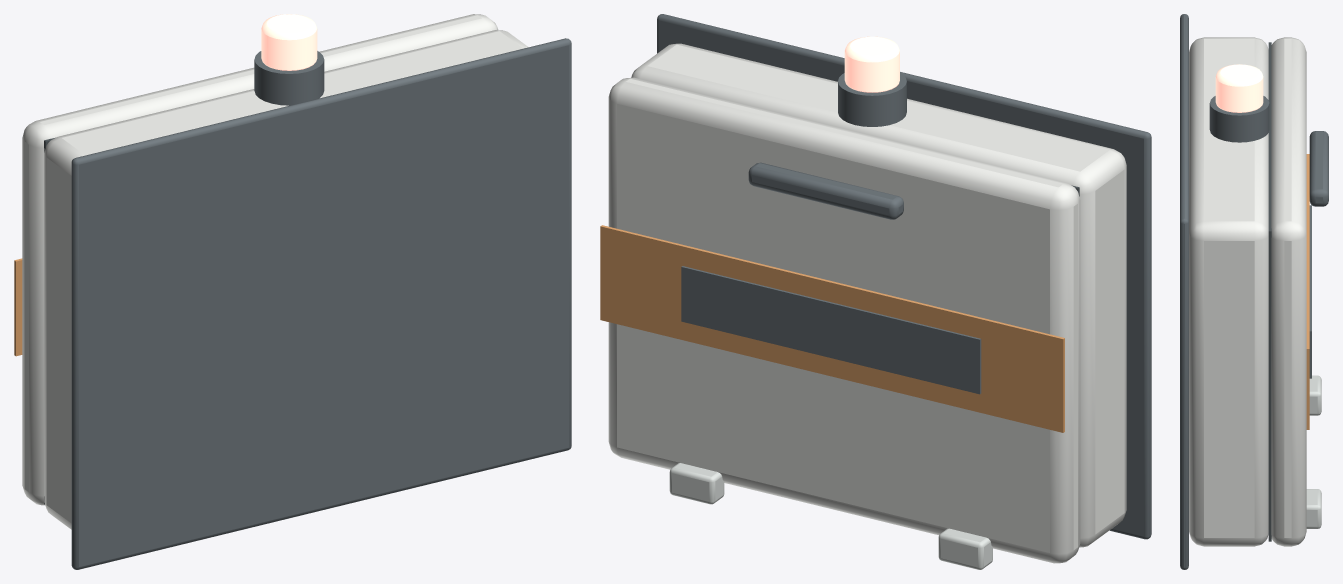
File: hull_patch_kit.glb
3 renders of one model, left to right at view 1: azimuth 30°, elevation 25°; view 2: azimuth 150°, elevation 25°; view 3: azimuth 270°, elevation 25°, orthographic. The views are drawn at different scales.
Visible parts, largest first — view 1: case_backplate_graphite, case_body_white_painted, Patch_Lid_white_painted, beacon_red_light, beacon_base_graphite, Patch_Lid_band_orange; view 2: Patch_Lid_white_painted, case_body_white_painted, Patch_Lid_band_orange, case_backplate_graphite, Patch_Lid_label_graphite, Patch_Lid_handle_graphite, Patch_Lid_latches_satin_steel, beacon_red_light, beacon_base_graphite; view 3: case_body_white_painted, Patch_Lid_white_painted, case_backplate_graphite, beacon_red_light, beacon_base_graphite, Patch_Lid_seam_black_rubber, Patch_Lid_handle_graphite, Patch_Lid_latches_satin_steel, Patch_Lid_band_orange, Patch_Lid_label_graphite.
Boxes of the visible parts, box(x1,y1,x2,y2) form: case_backplate_graphite: box(71, 38, 571, 569); case_body_white_painted: box(44, 30, 528, 529); Patch_Lid_white_painted: box(22, 14, 498, 505); beacon_red_light: box(261, 14, 317, 70); beacon_base_graphite: box(254, 51, 324, 105); Patch_Lid_band_orange: box(14, 258, 22, 356); Patch_Lid_white_painted: box(608, 77, 1080, 563); case_body_white_painted: box(631, 43, 1126, 547); Patch_Lid_band_orange: box(600, 225, 1064, 432); case_backplate_graphite: box(657, 14, 1151, 539); Patch_Lid_label_graphite: box(681, 266, 981, 394); Patch_Lid_handle_graphite: box(748, 162, 903, 219); Patch_Lid_latches_satin_steel: box(669, 463, 992, 569); beacon_red_light: box(844, 36, 899, 92); beacon_base_graphite: box(838, 73, 906, 126); case_body_white_painted: box(1189, 37, 1268, 546); Patch_Lid_white_painted: box(1271, 37, 1306, 546); case_backplate_graphite: box(1180, 14, 1188, 569); beacon_red_light: box(1215, 64, 1263, 112); beacon_base_graphite: box(1209, 96, 1269, 142); Patch_Lid_seam_black_rubber: box(1268, 42, 1271, 541); Patch_Lid_handle_graphite: box(1309, 131, 1328, 206); Patch_Lid_latches_satin_steel: box(1306, 375, 1321, 528); Patch_Lid_band_orange: box(1306, 154, 1309, 429); Patch_Lid_label_graphite: box(1309, 205, 1311, 378).
Size of the model in its own units: 0.66 by 0.585 by 0.2.
